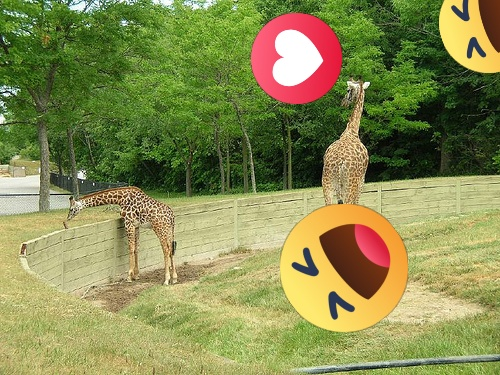haha: (280, 204, 408, 332), (439, 0, 500, 73)
love: (251, 13, 342, 104)
